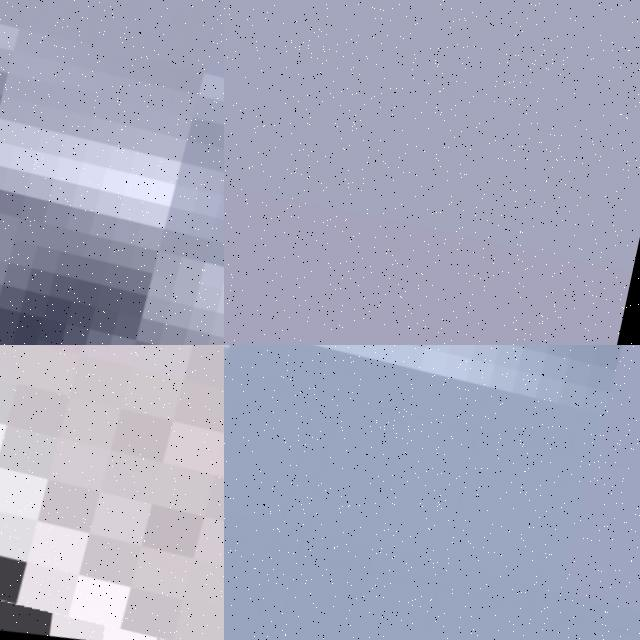drone: (224, 345, 640, 640), (0, 0, 224, 345), (0, 345, 224, 640)
